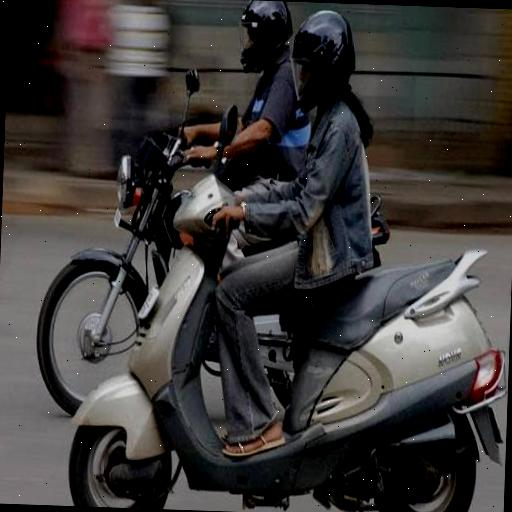helmet: (164, 0, 498, 494), (86, 0, 293, 205)
